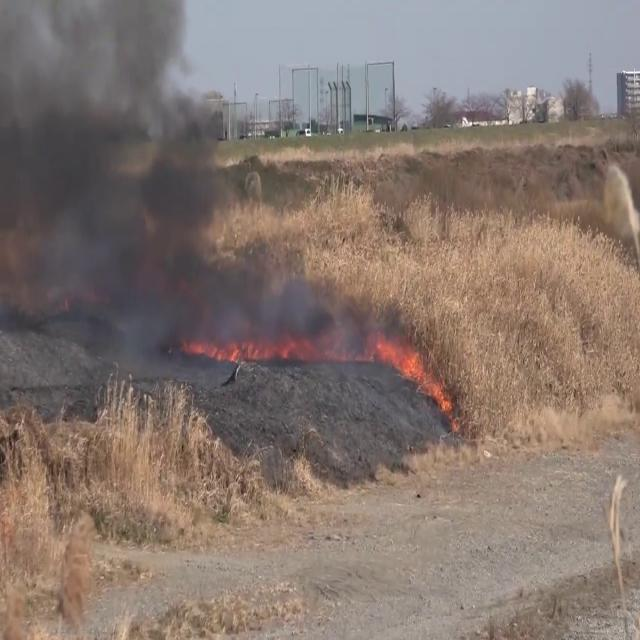Fire: (371, 324, 453, 410)
Smoke: (1, 0, 280, 412)
